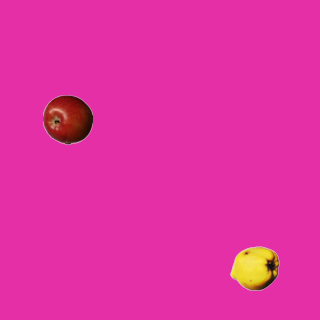Apple Braeburn: (42, 94, 92, 144)
Quince: (229, 243, 279, 293)
